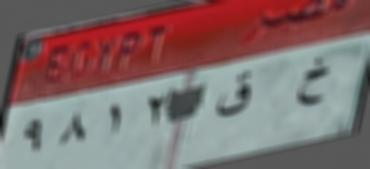1: (103, 102, 126, 138)
2: (146, 90, 166, 126)
8: (54, 112, 88, 150)
9: (18, 115, 46, 154)
khaa: (293, 60, 334, 112)
qaaf: (213, 70, 256, 119)
